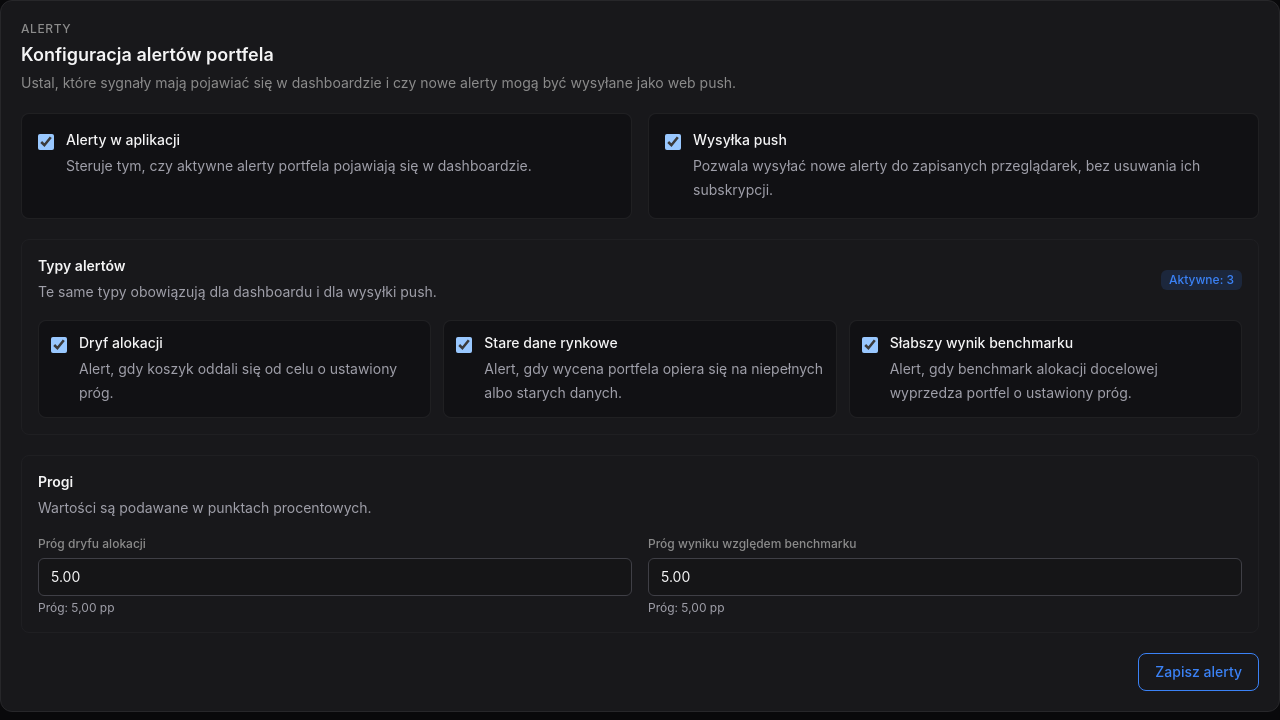
Scenario: PortfolioAlertSettingsSection › loads alert settings and saves the selected alert policy
The width and height of the screenshot is (1280, 720).
Expected: the heading "Konfiguracja alertów portfela" is shown, top-left (21, 44), bottom-right (274, 65)
Click the checkbox labelled "Wysyłka push". click: x=673, y=142
box: top-left (665, 134), bottom-right (681, 150)
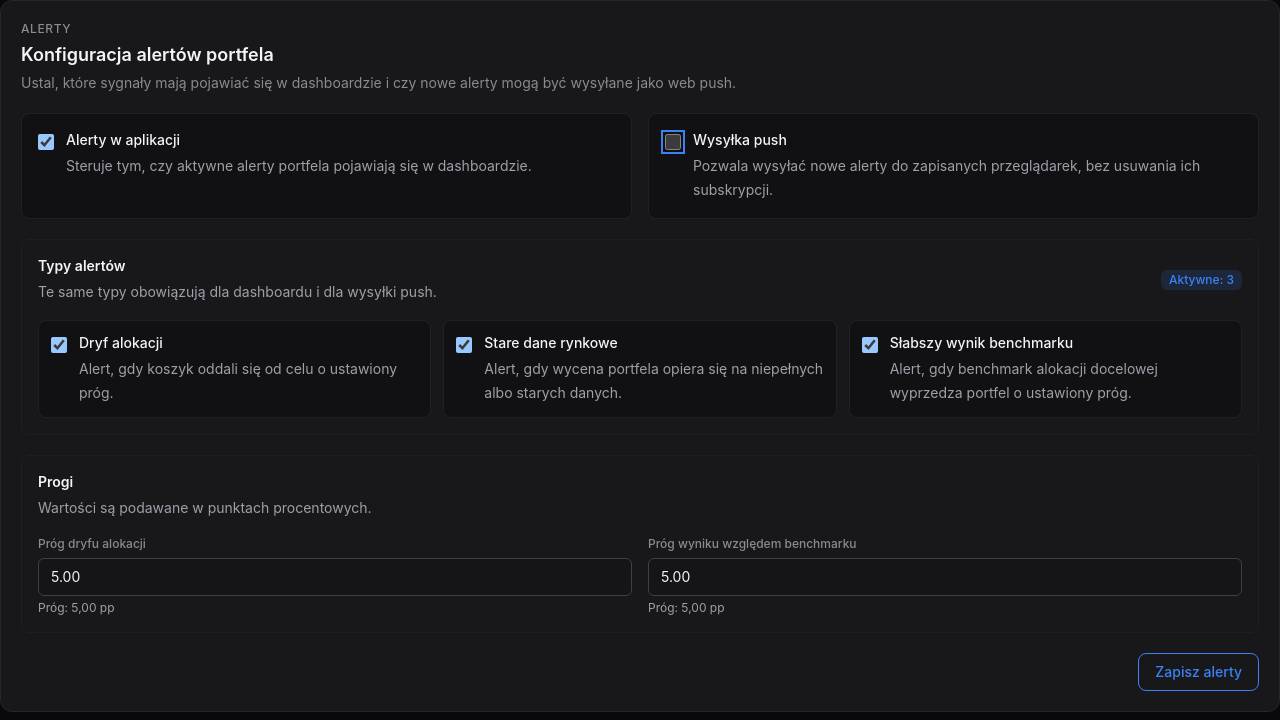
Click the checkbox labelled "Słabszy wynik benchmarku". click: x=870, y=345
box: top-left (862, 337), bottom-right (878, 353)
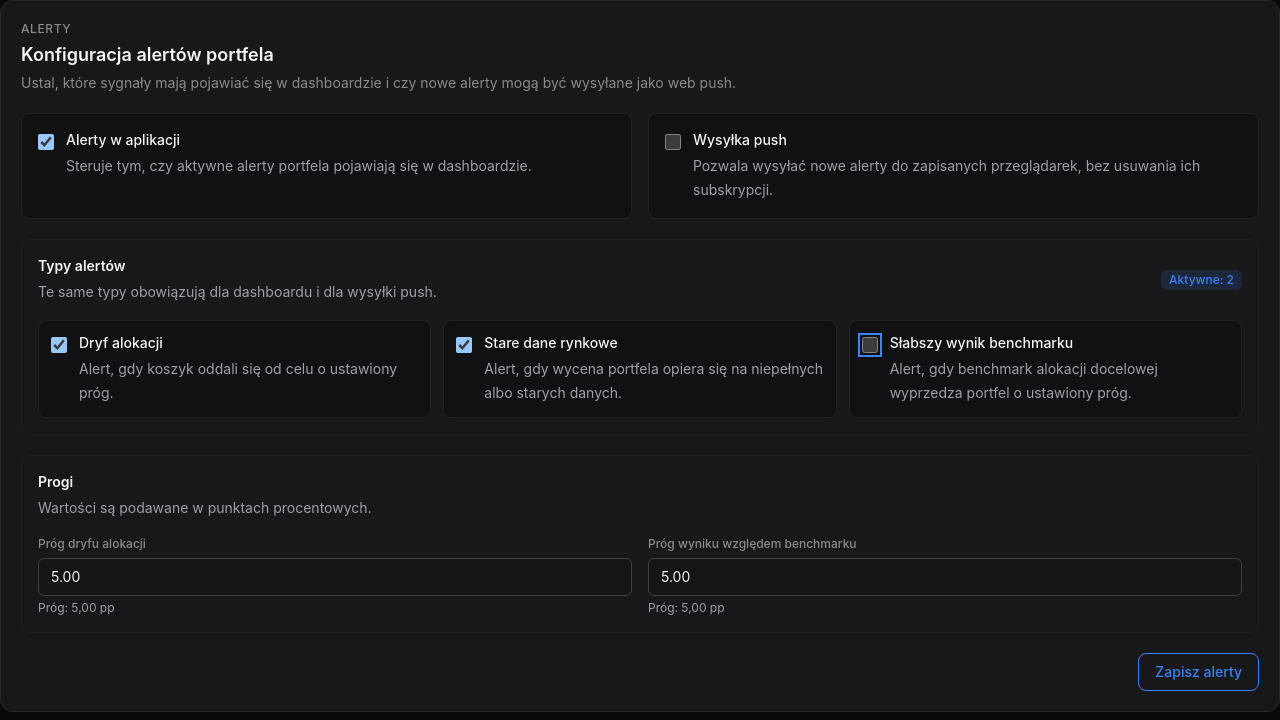
Replace the text in the field labelled "Próg dryfu alokacji Próg: 5,00 pp" with "7,5". click: x=335, y=577
box: top-left (38, 558), bottom-right (632, 596)
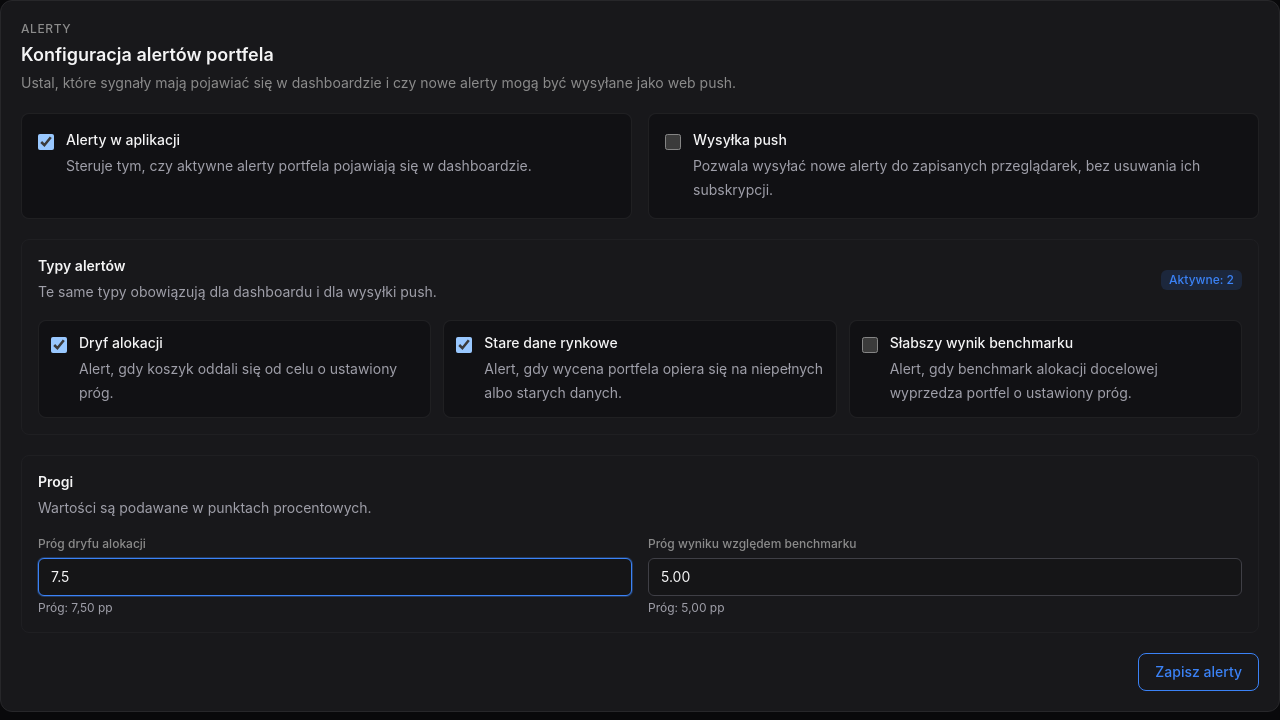
Replace the text in the field labelled "Próg wyniku względem benchmarku Próg: 5,00 pp" with "4.25". click: x=945, y=577
box: top-left (648, 558), bottom-right (1242, 596)
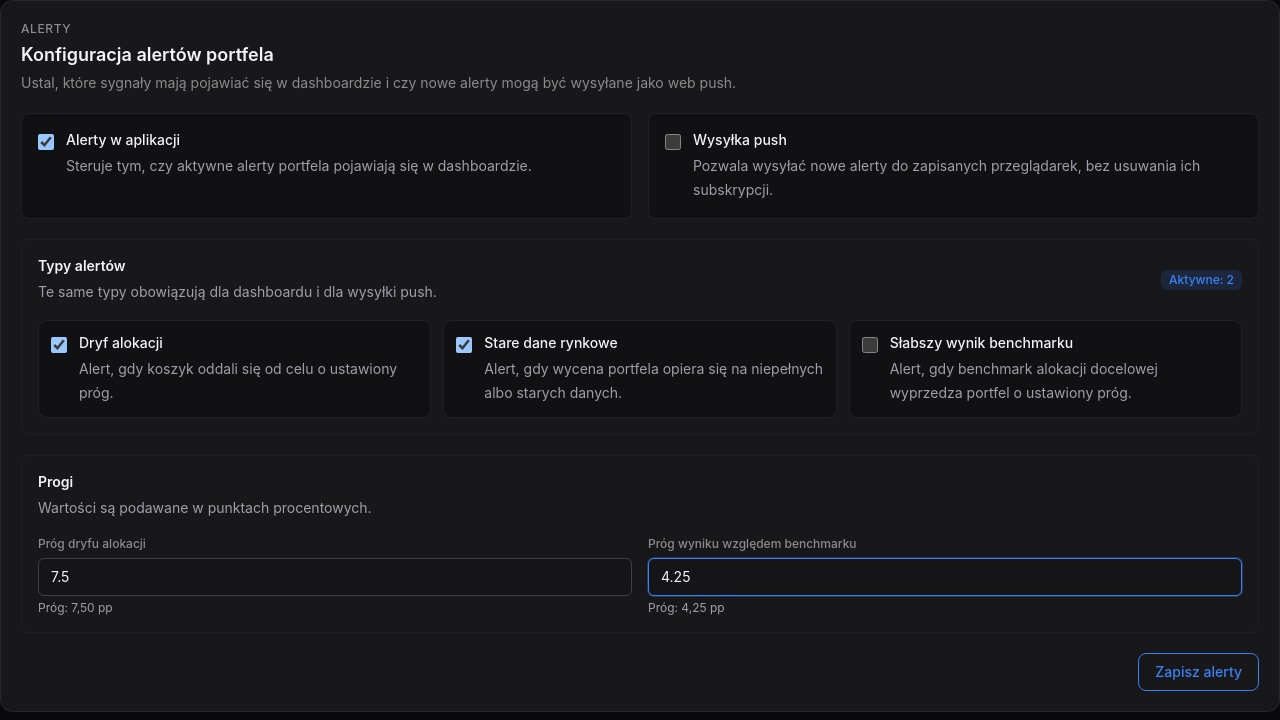
Click the button "Zapisz alerty". click: x=1199, y=672
box: top-left (1138, 653), bottom-right (1259, 691)
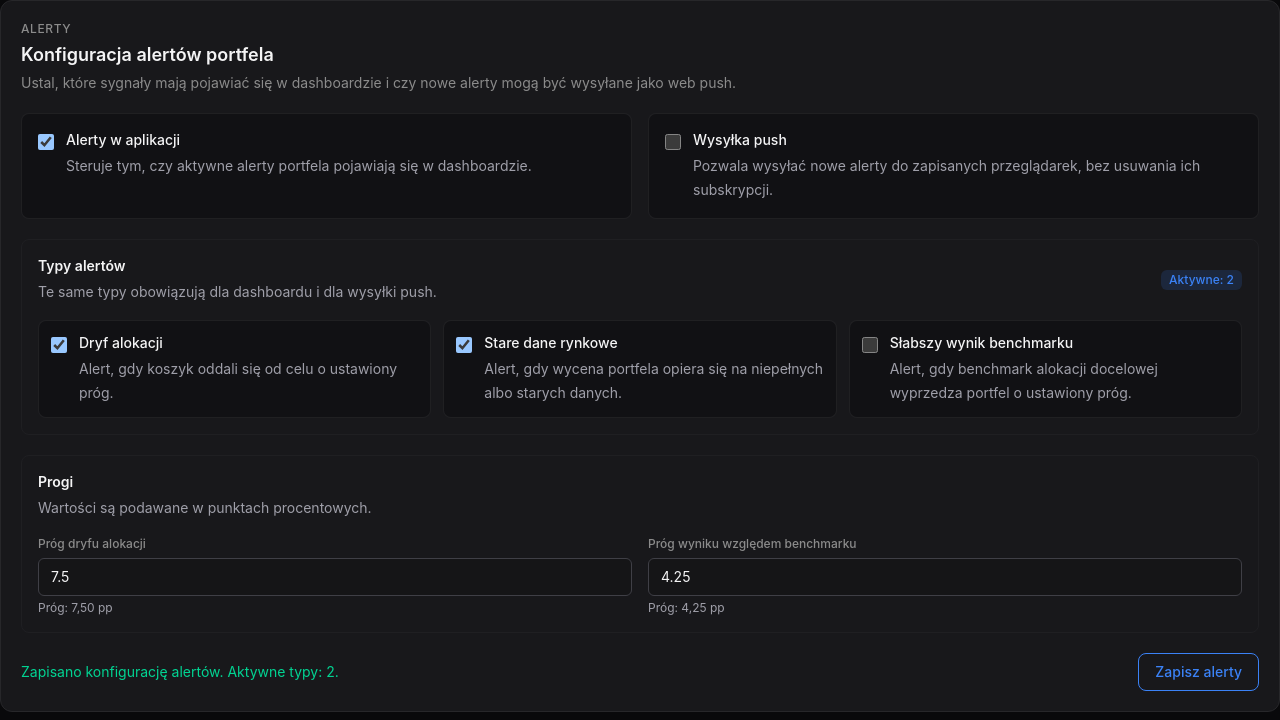
Expected: the text "Zapisano konfigurację alertów. Aktywne typy: 2." is shown, top-left (21, 662), bottom-right (339, 682)
